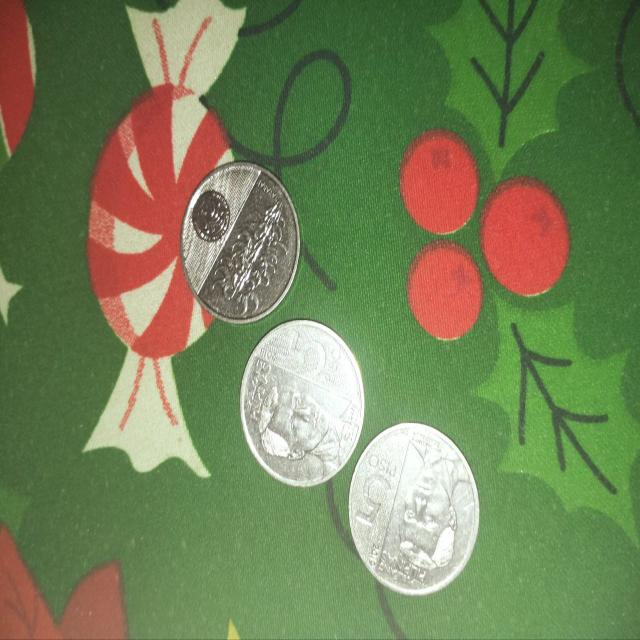5 peso: (348, 425, 479, 597), (181, 160, 306, 329), (239, 320, 364, 485)
